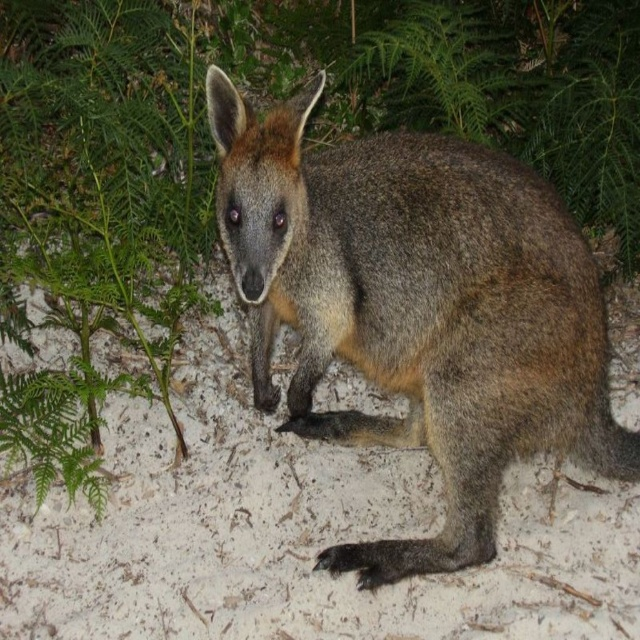Kangaroo: (206, 64, 640, 591)
